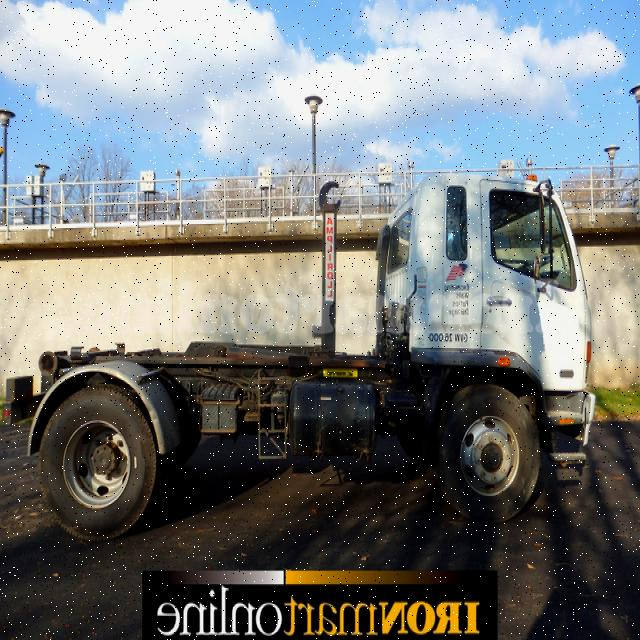truck: (26, 171, 600, 544)
